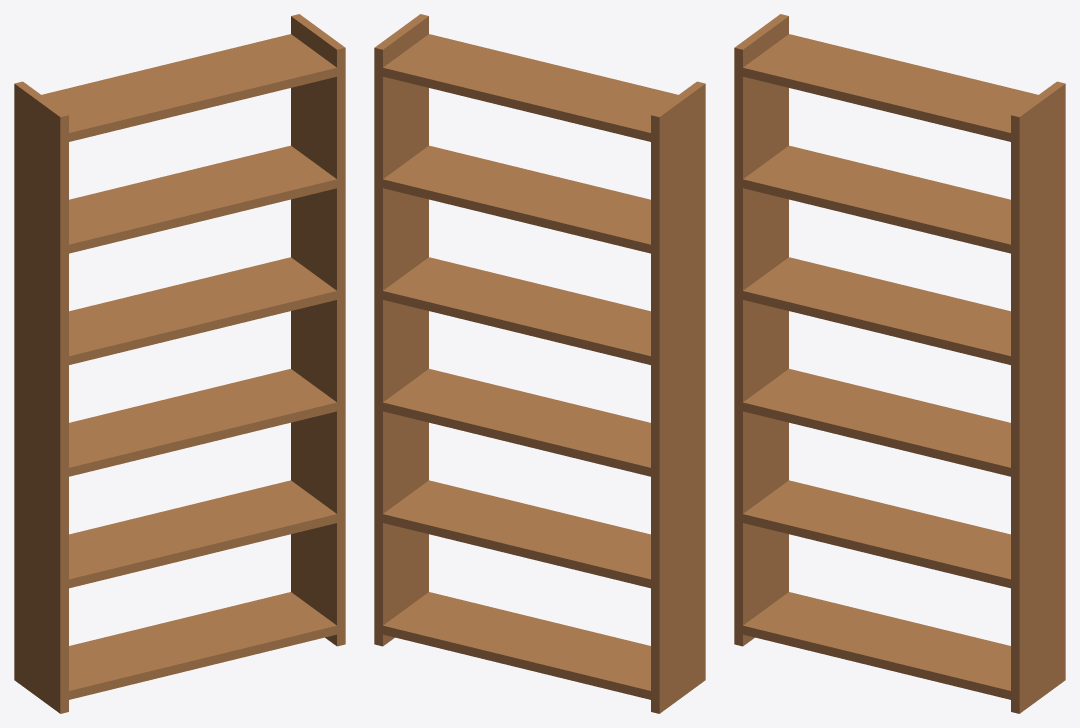
File: SHELVES.fbx
The picture shows the model from 3 angles, left to right: view 1: azimuth 30°, elevation 25°; view 2: azimuth 150°, elevation 25°; view 3: azimuth 330°, elevation 25°; orthographic projection.
Parts seen in each view (by area): view 1: Shelves1; view 2: Shelves1; view 3: Shelves1.
Part boxes in pixels (x1,y1,x2,y2): Shelves1: (14, 14, 345, 713); Shelves1: (374, 14, 705, 713); Shelves1: (734, 14, 1065, 713).
Size of the model in its own units: 100 by 200 by 28.
